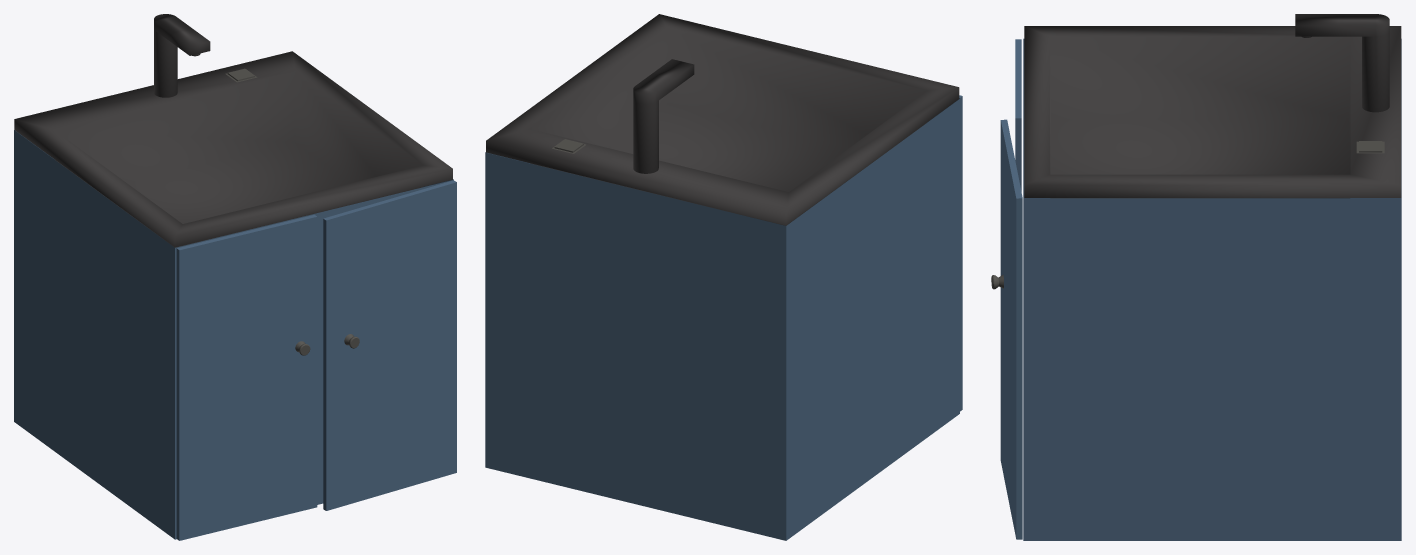
The model's file is sink(rakovina).fbx.
3 views of the same model, side by side, from view 1: azimuth 30°, elevation 25°; view 2: azimuth 150°, elevation 25°; view 3: azimuth 270°, elevation 25° (orthographic). The views are drawn at different scales.
Visible parts, largest first — view 1: Cube.005, stolesniza.005, DOOR.010, DOOR.011, Cylinder.016; view 2: Cube.005, stolesniza.005, Cylinder.016, DOOR.010; view 3: Cube.005, stolesniza.005, DOOR.011, Cylinder.016, DOOR.010.
Part boxes in pixels (<box>): Cube.005: <box>14,130,453,539</box>; stolesniza.005: <box>14,51,452,247</box>; DOOR.010: <box>176,214,317,540</box>; DOOR.011: <box>323,180,456,510</box>; Cylinder.016: <box>154,14,210,97</box>; Cube.005: <box>485,98,959,540</box>; stolesniza.005: <box>486,14,959,225</box>; Cylinder.016: <box>633,59,694,173</box>; DOOR.010: <box>959,95,962,411</box>; Cube.005: <box>1023,38,1401,540</box>; stolesniza.005: <box>1024,26,1401,198</box>; DOOR.011: <box>1000,119,1022,539</box>; Cylinder.016: <box>1295,14,1389,112</box>; DOOR.010: <box>1015,39,1021,191</box>.
Bounding box in the file's own units: 2717 × 3504 × 2947.
